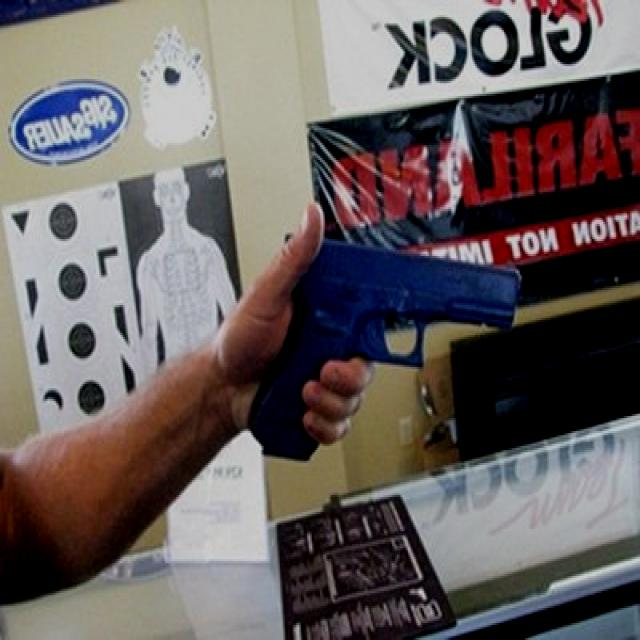pistol: (254, 243, 528, 461)
